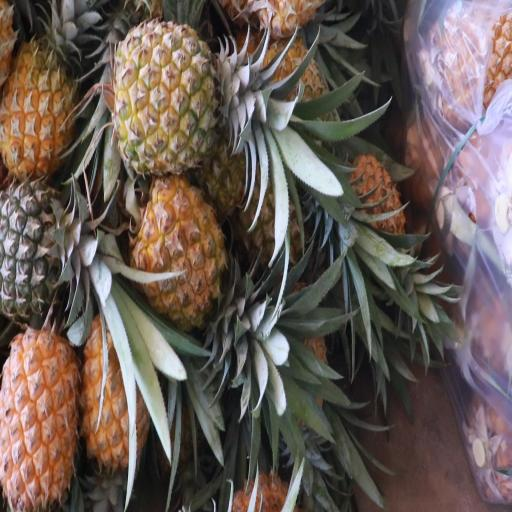Pineapple - v8 v1: (107, 18, 303, 181), (0, 281, 84, 512), (134, 163, 239, 346), (0, 2, 90, 182), (82, 307, 153, 471)
